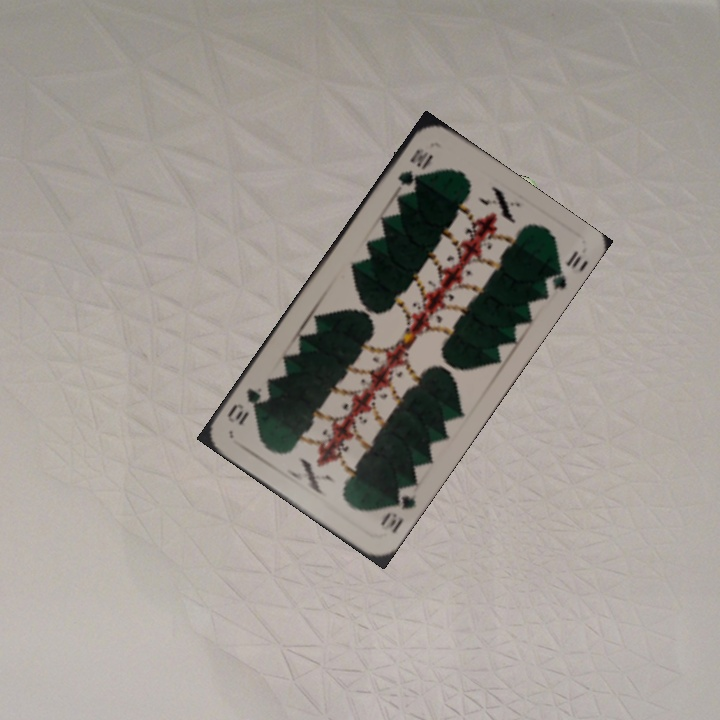G10: (376, 482, 420, 536), (393, 145, 435, 189)
